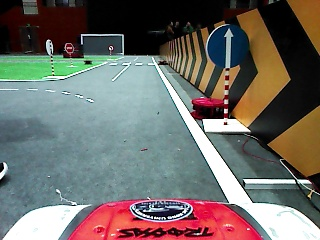straight: (206, 23, 250, 68)
